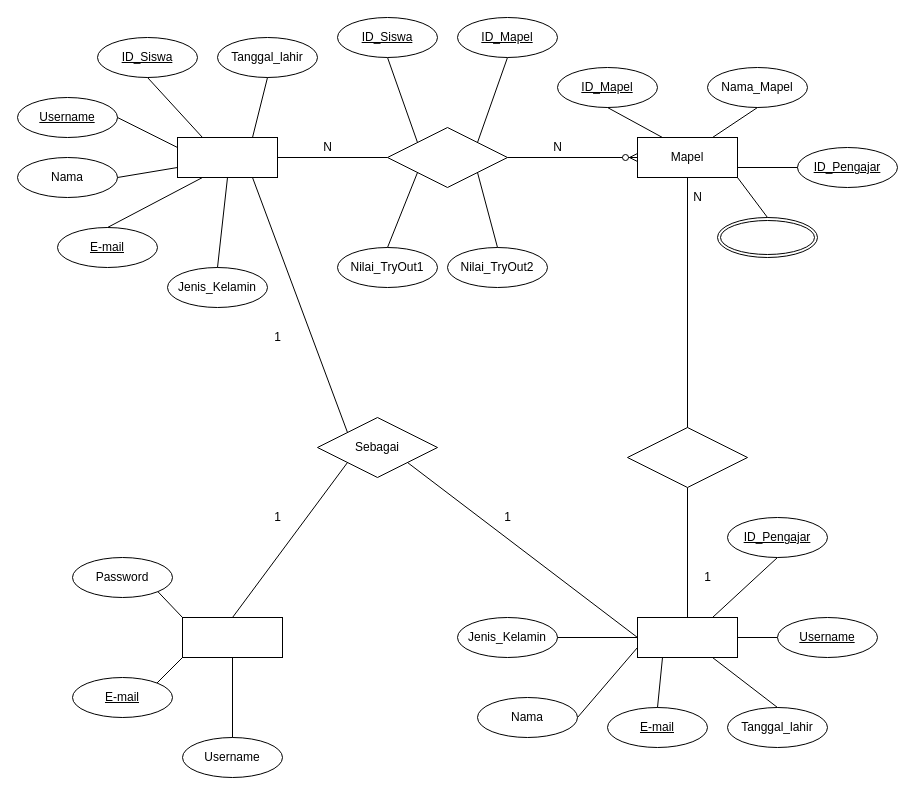
This 915x795 diagram has some shape labels left out. Here are the shapes that lost their labels. From the top down, the centre of each, then its label:
point (227, 157): Siswa
point (447, 157): Belajar
point (767, 237): Materi
point (687, 457): Mengajar
point (232, 637): Login
point (687, 637): Pengajar
